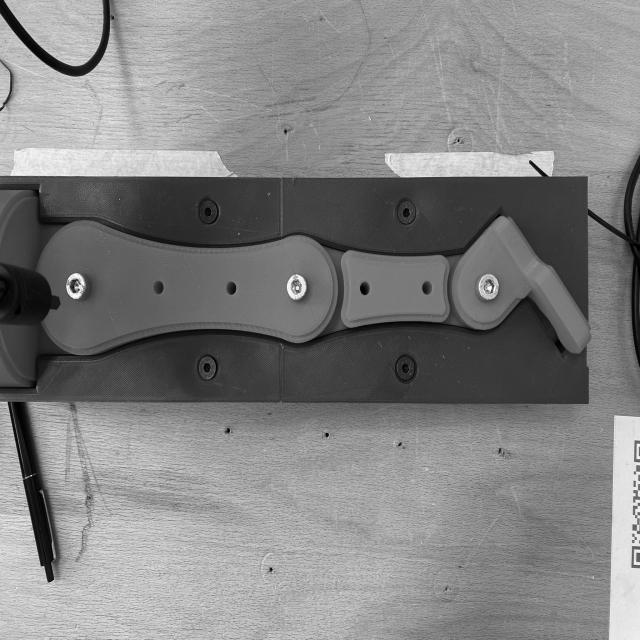HexScrew: (479, 273, 500, 301), (287, 273, 307, 301), (67, 273, 85, 300), (396, 356, 416, 380), (397, 200, 416, 225), (199, 200, 218, 224), (199, 356, 216, 380)
